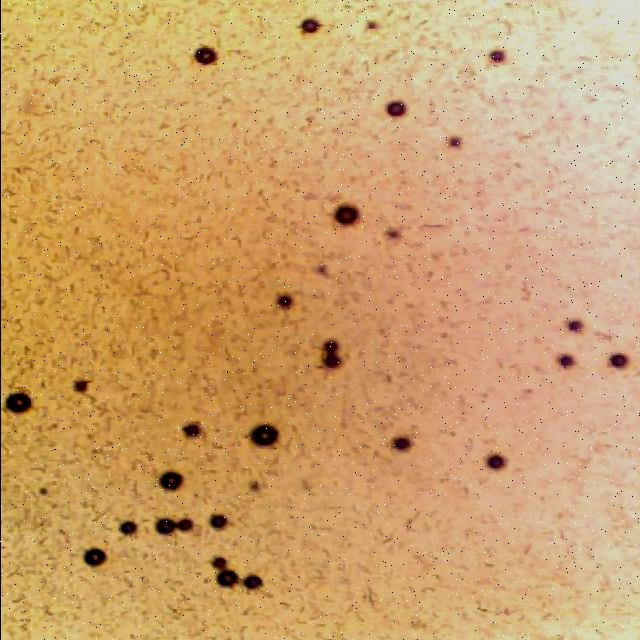microbeads: (240, 420, 280, 450)
